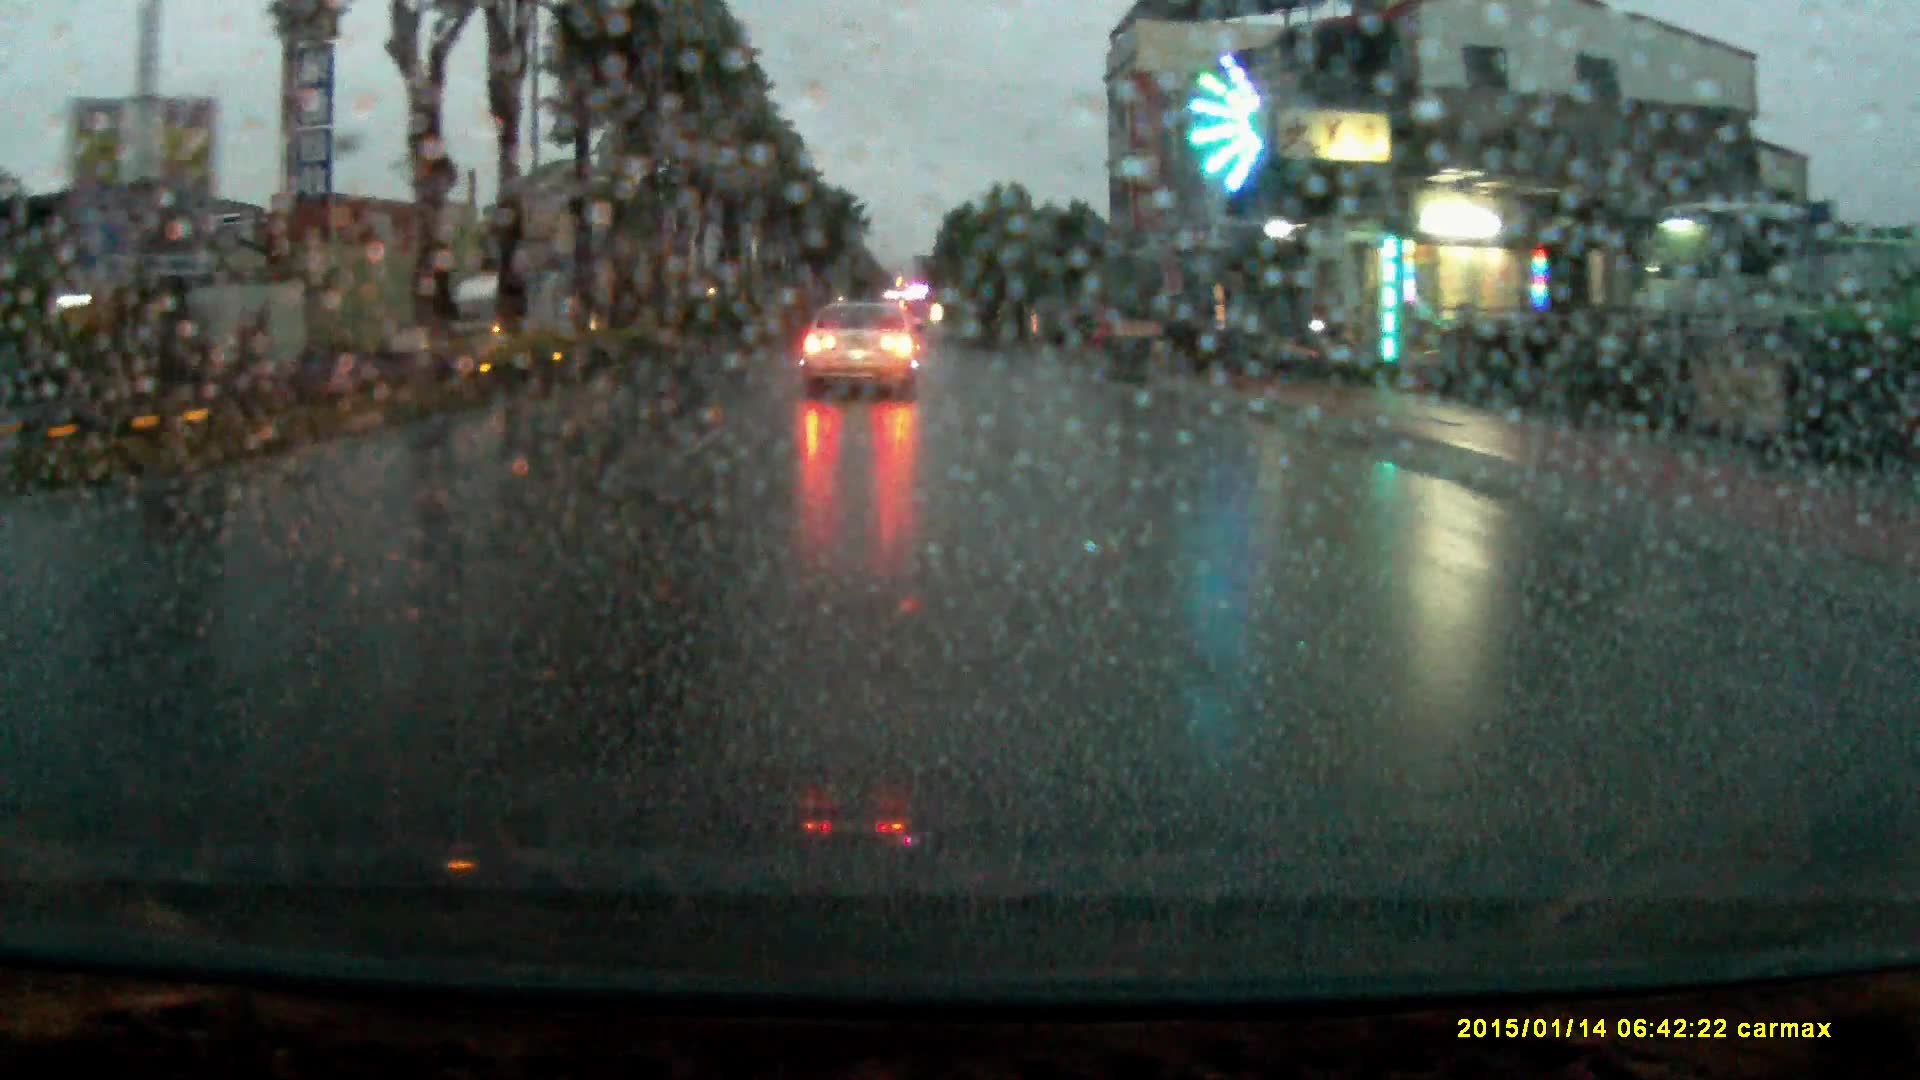vehicle: (1629, 204, 1818, 390), (800, 301, 916, 404), (446, 270, 556, 348), (1027, 302, 1091, 351)
